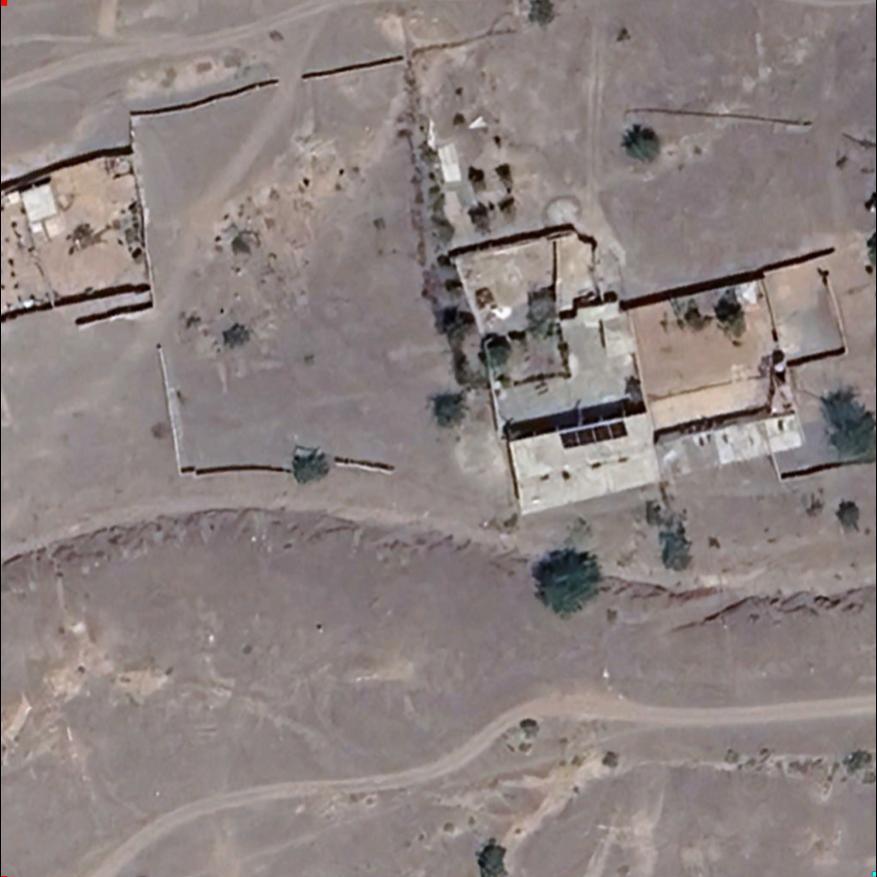Solarpanel: (553, 416, 635, 451)
